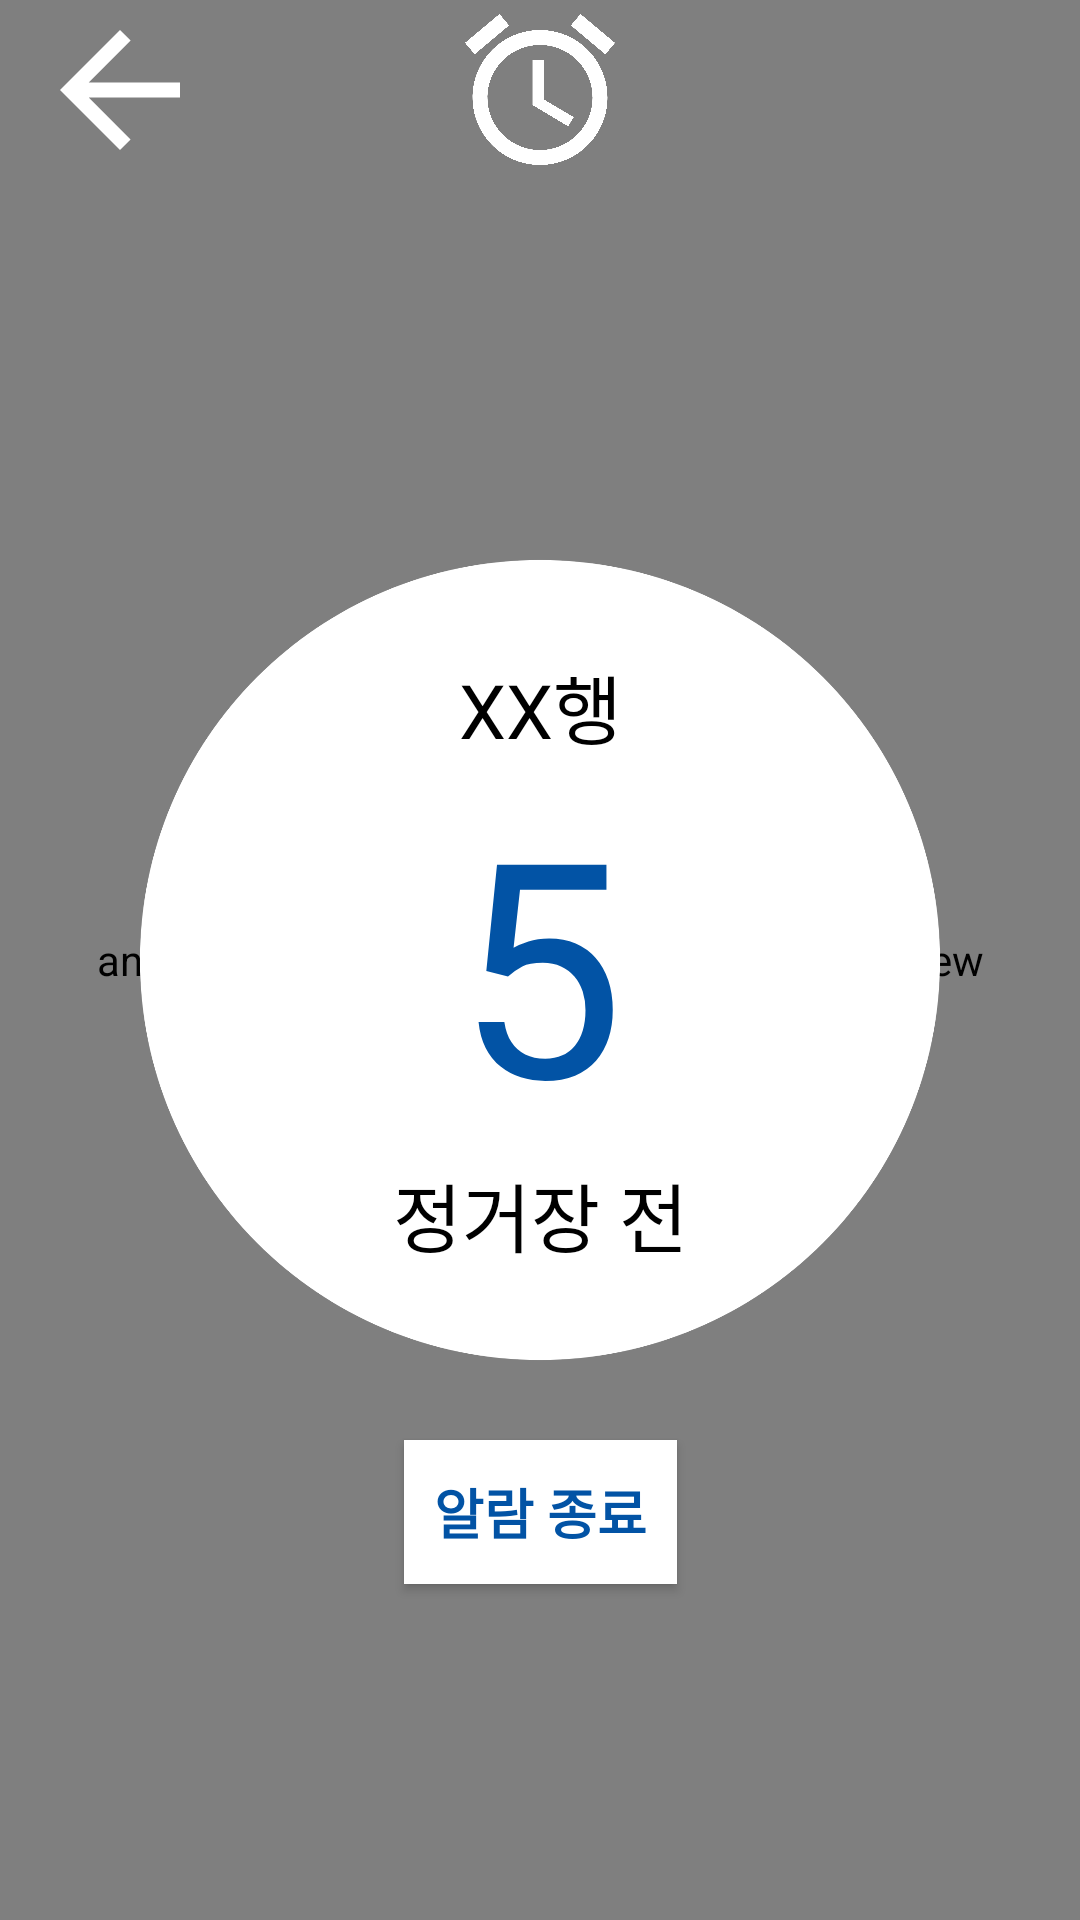

Where to tap for icons on this 1080 x 1920 app screen, as point (x, y):
access alarm: point (540, 89)
arrow back: point (120, 90)
